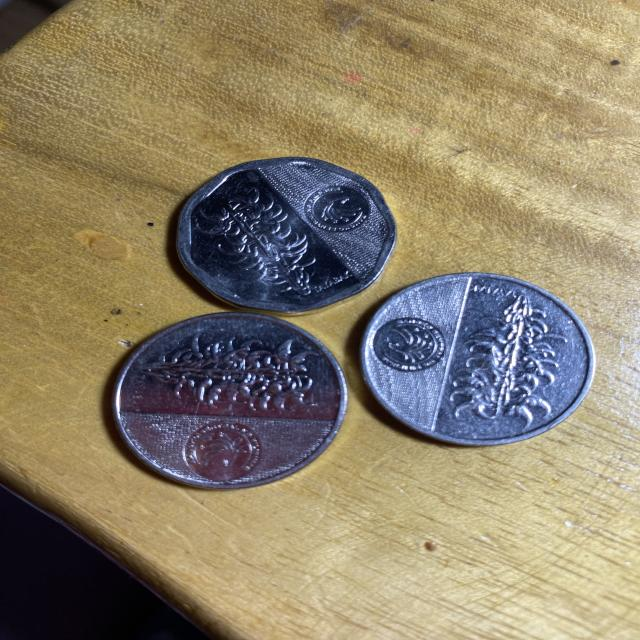5_New_Back: (132, 324, 315, 414)
